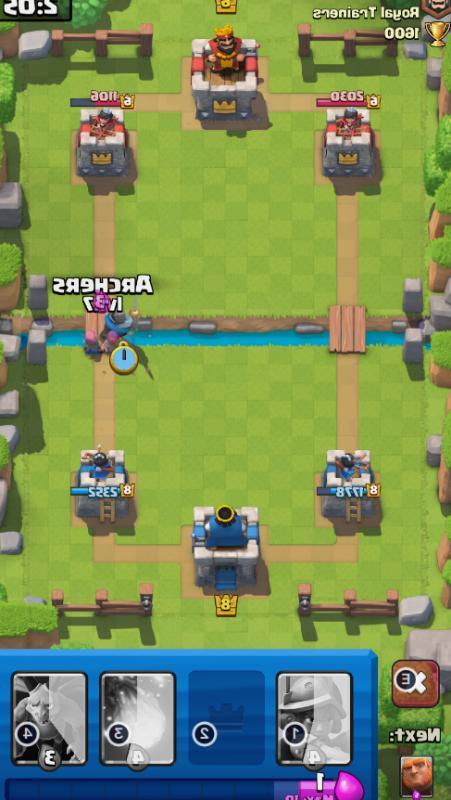player_archers: (78, 322, 110, 360)
player_knight: (101, 303, 139, 338)
